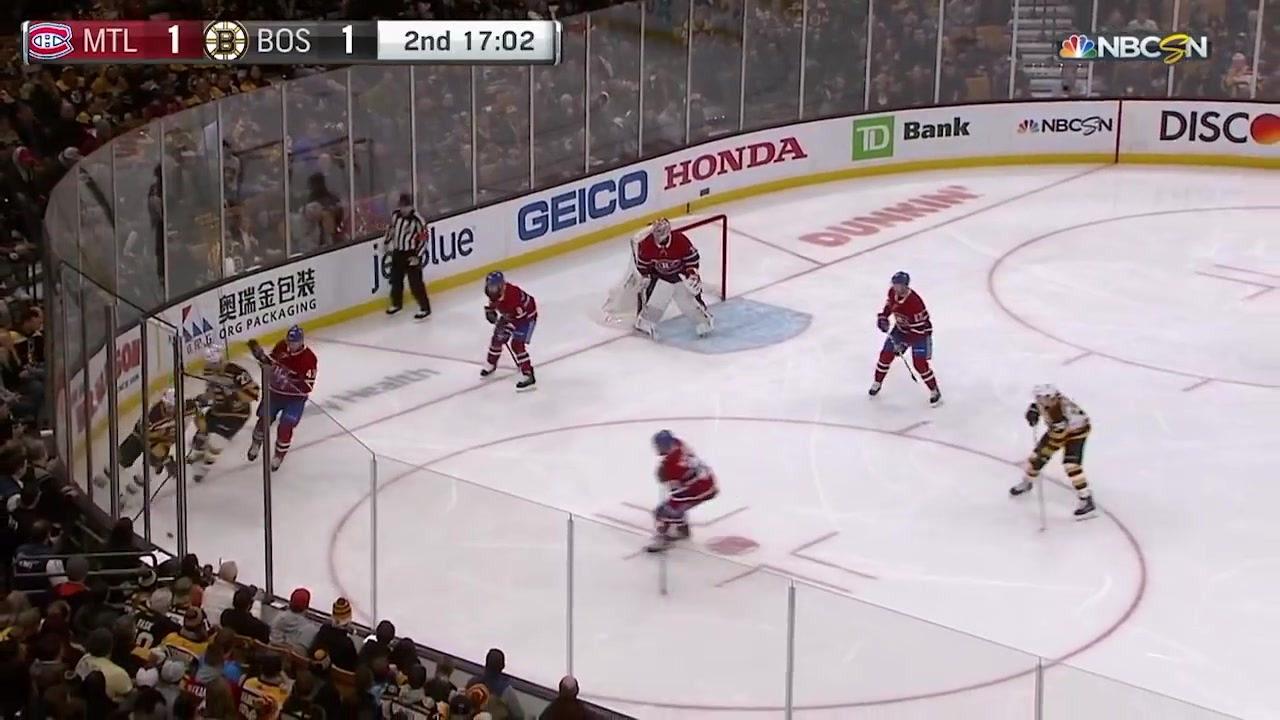geico: (516, 164, 661, 239)
